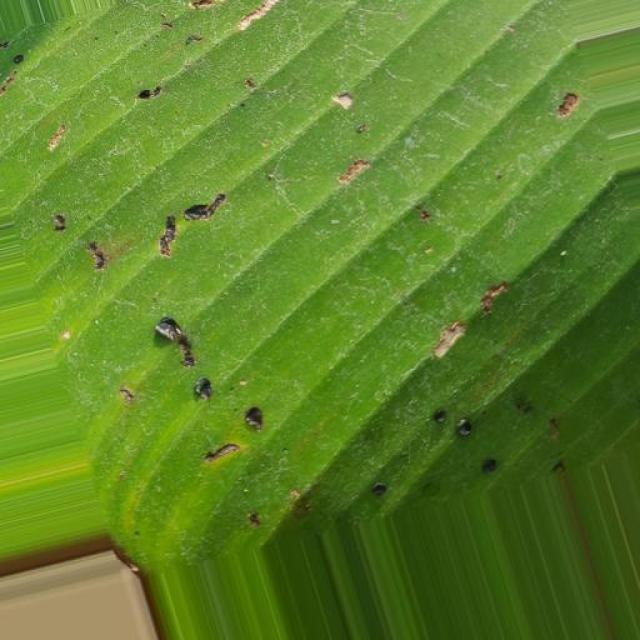Black_rot: (10, 6, 640, 545)
